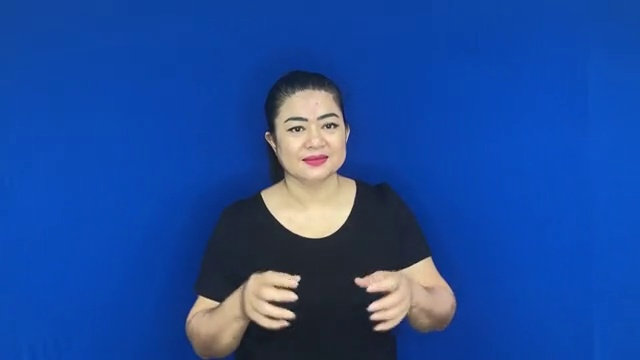egg: (230, 261, 417, 336)
